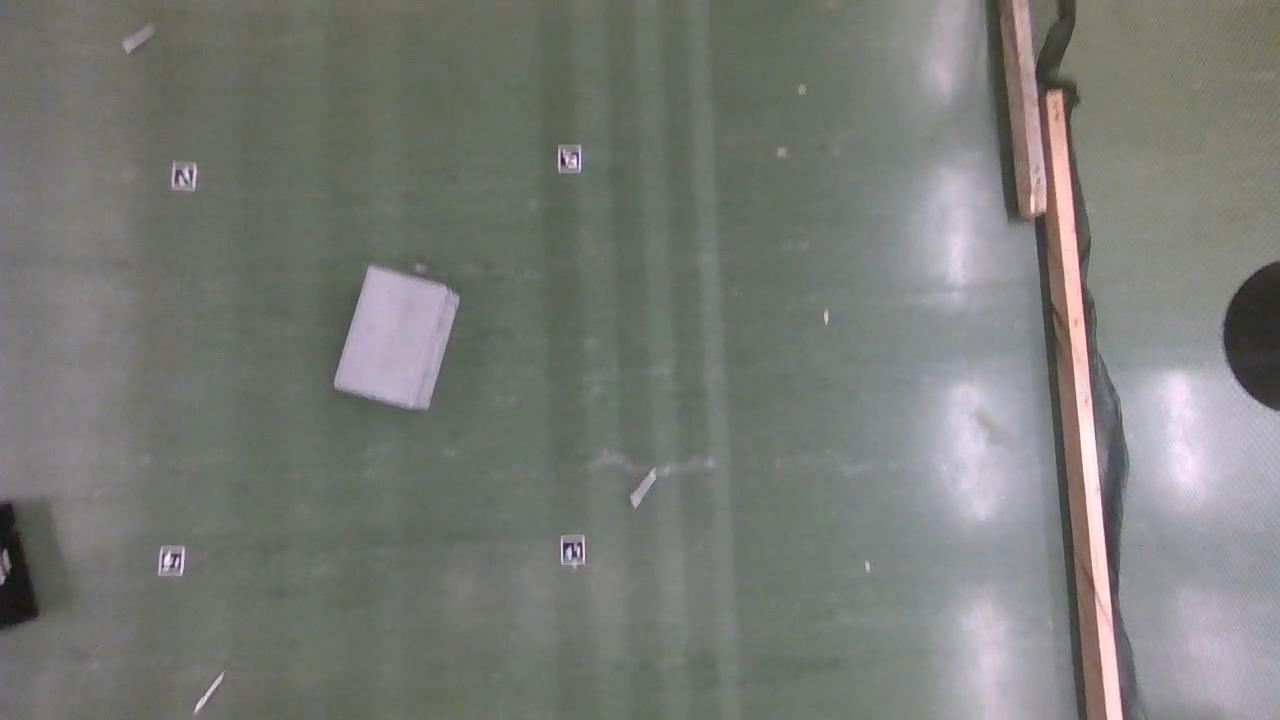probes: (196, 673, 225, 713), (631, 469, 659, 509), (124, 24, 156, 54)
rako: (332, 267, 459, 412)
